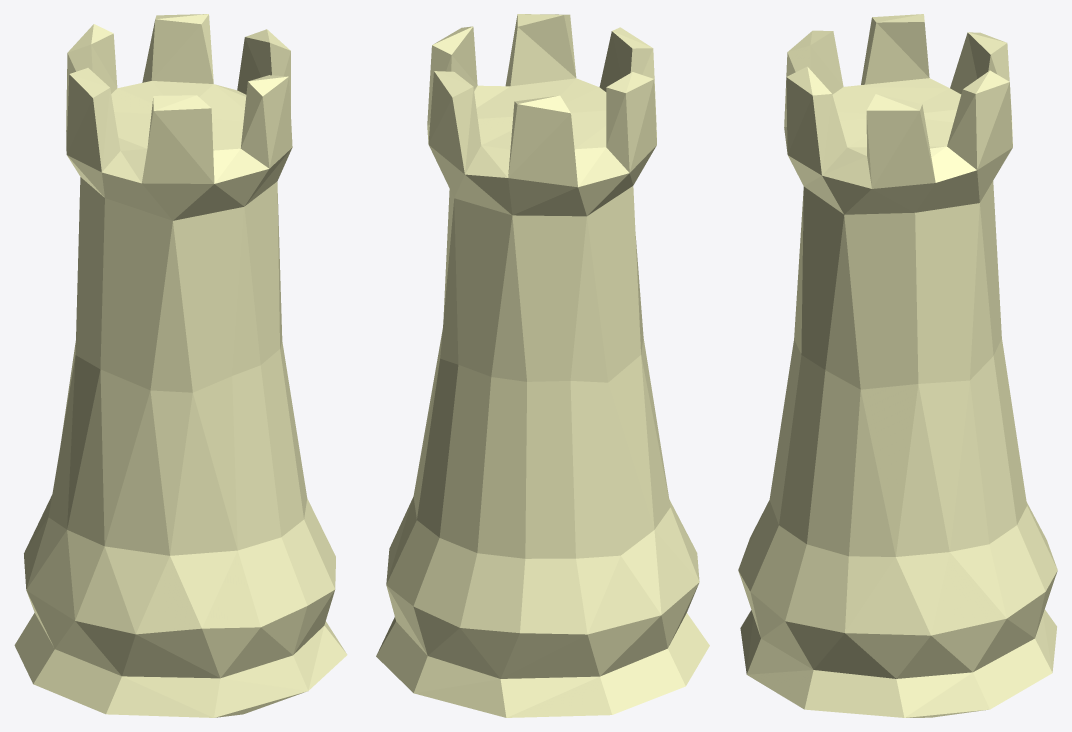
Rendered from rook_lt.fbx.
3 renders of one model, left to right at view 1: azimuth 30°, elevation 25°; view 2: azimuth 150°, elevation 25°; view 3: azimuth 270°, elevation 25°, orthographic.
Parts seen in each view (by area): view 1: Rook_LT; view 2: Rook_LT; view 3: Rook_LT.
Part boxes in pixels (left/top/right/bottom): Rook_LT: left=14, top=14, right=347, bottom=717; Rook_LT: left=376, top=14, right=709, bottom=717; Rook_LT: left=738, top=14, right=1057, bottom=717.
Size of the model in its own units: 1.47 by 3.01 by 1.42.
